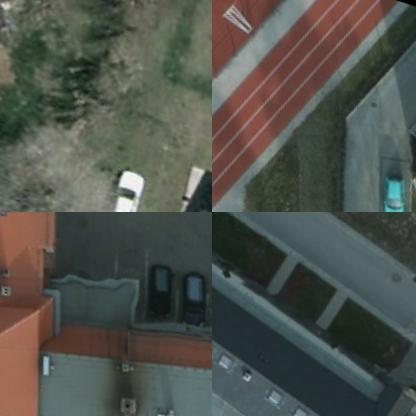car: (137, 253, 180, 319), (174, 263, 210, 326), (105, 159, 146, 211), (370, 163, 411, 211)
